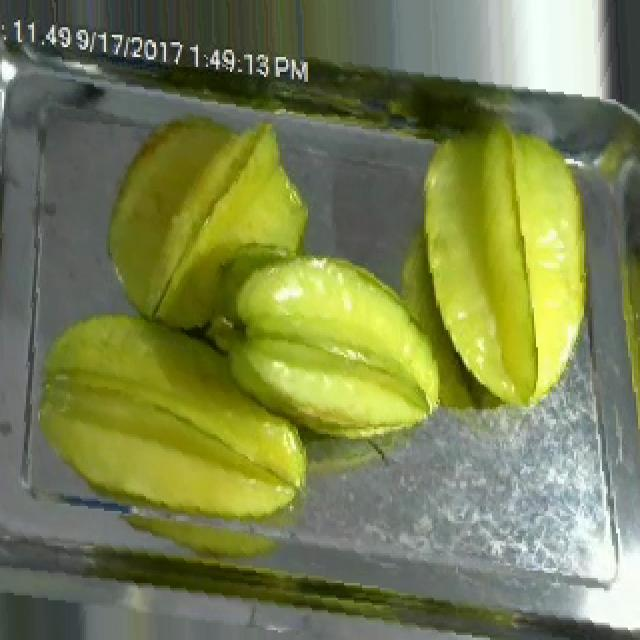fruit: (22, 298, 326, 538), (398, 111, 604, 432), (84, 99, 330, 352), (214, 231, 460, 459)
